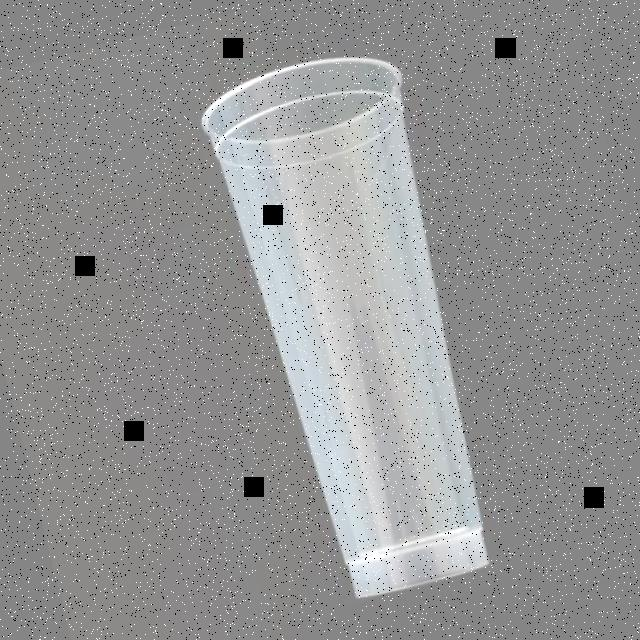plastic_box: (190, 42, 520, 614)
